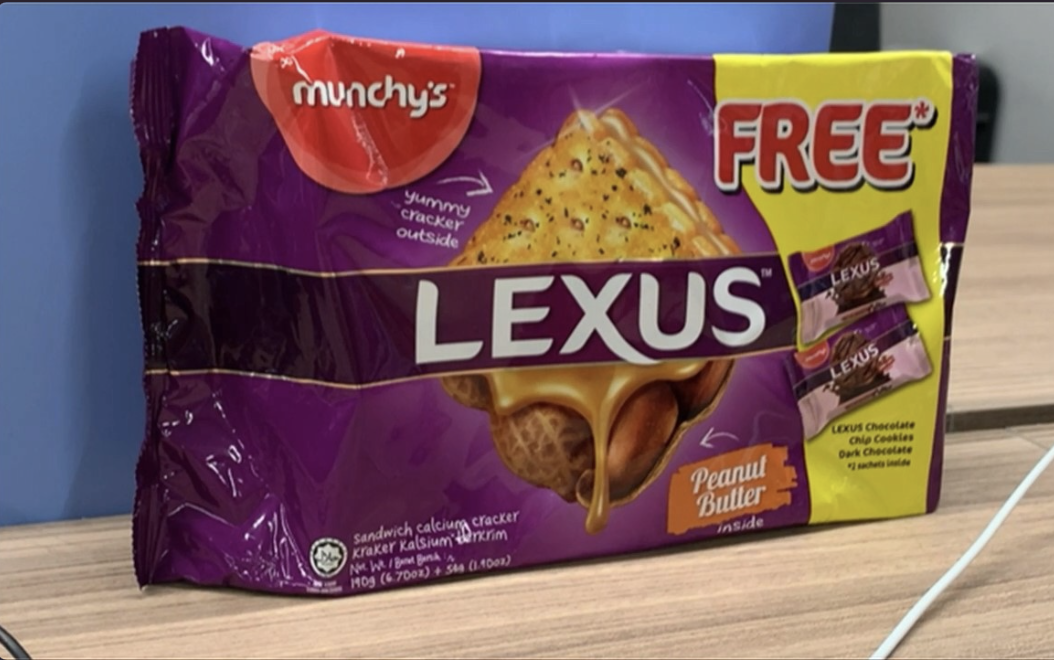crackers_150g: (263, 68, 934, 577)
